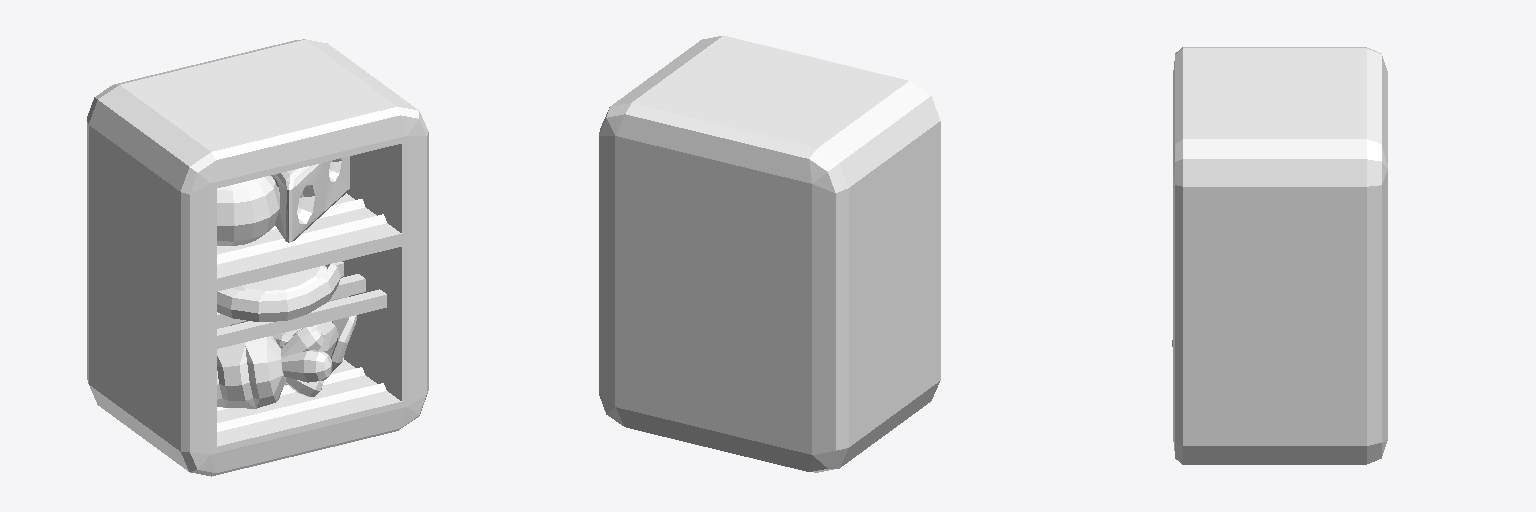
The model's file is fridge_A_decorated.obj.
The picture shows the model from 3 angles: view 1: azimuth 30°, elevation 25°; view 2: azimuth 150°, elevation 25°; view 3: azimuth 270°, elevation 25°; orthographic projection.
Visible parts, largest first — view 1: fridge_A_decorated_Cube.106; view 2: fridge_A_decorated_Cube.106; view 3: fridge_A_decorated_Cube.106.
Part boxes in pixels (left/top/right/bottom): fridge_A_decorated_Cube.106: left=87, top=39, right=428, bottom=476; fridge_A_decorated_Cube.106: left=599, top=35, right=940, bottom=472; fridge_A_decorated_Cube.106: left=1172, top=47, right=1387, bottom=464.
Size of the model in its own units: 2 by 2.5 by 1.51.